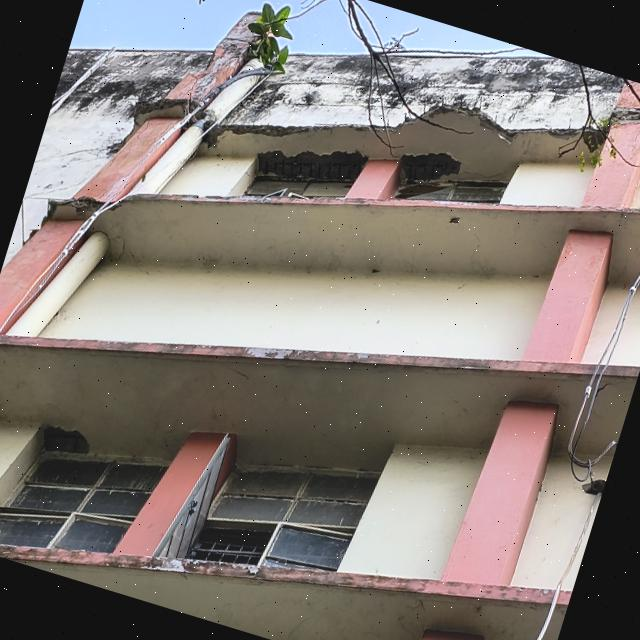stain_mould: (50, 49, 215, 137)
